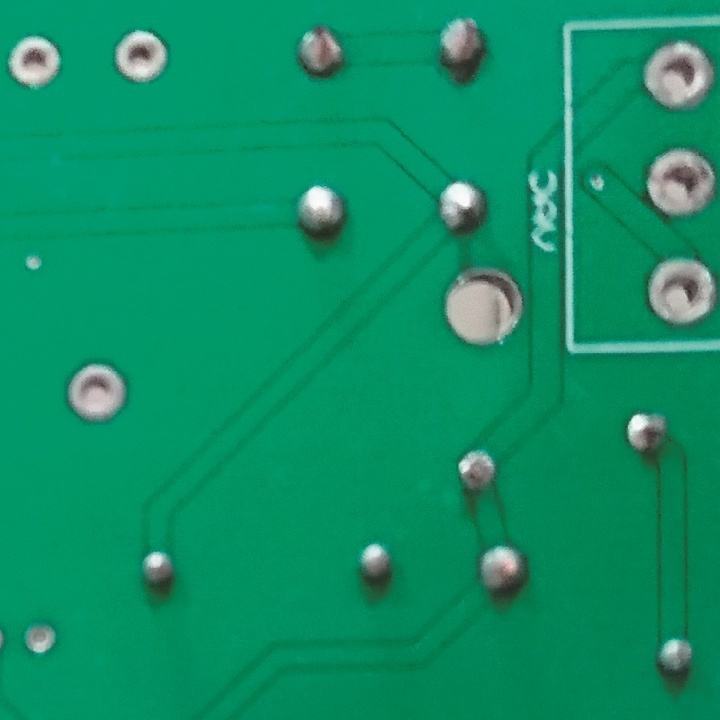F: (641, 254, 720, 329), (638, 37, 720, 109), (641, 145, 720, 217), (59, 358, 137, 429), (107, 26, 176, 87), (4, 32, 70, 92), (17, 615, 61, 659)
